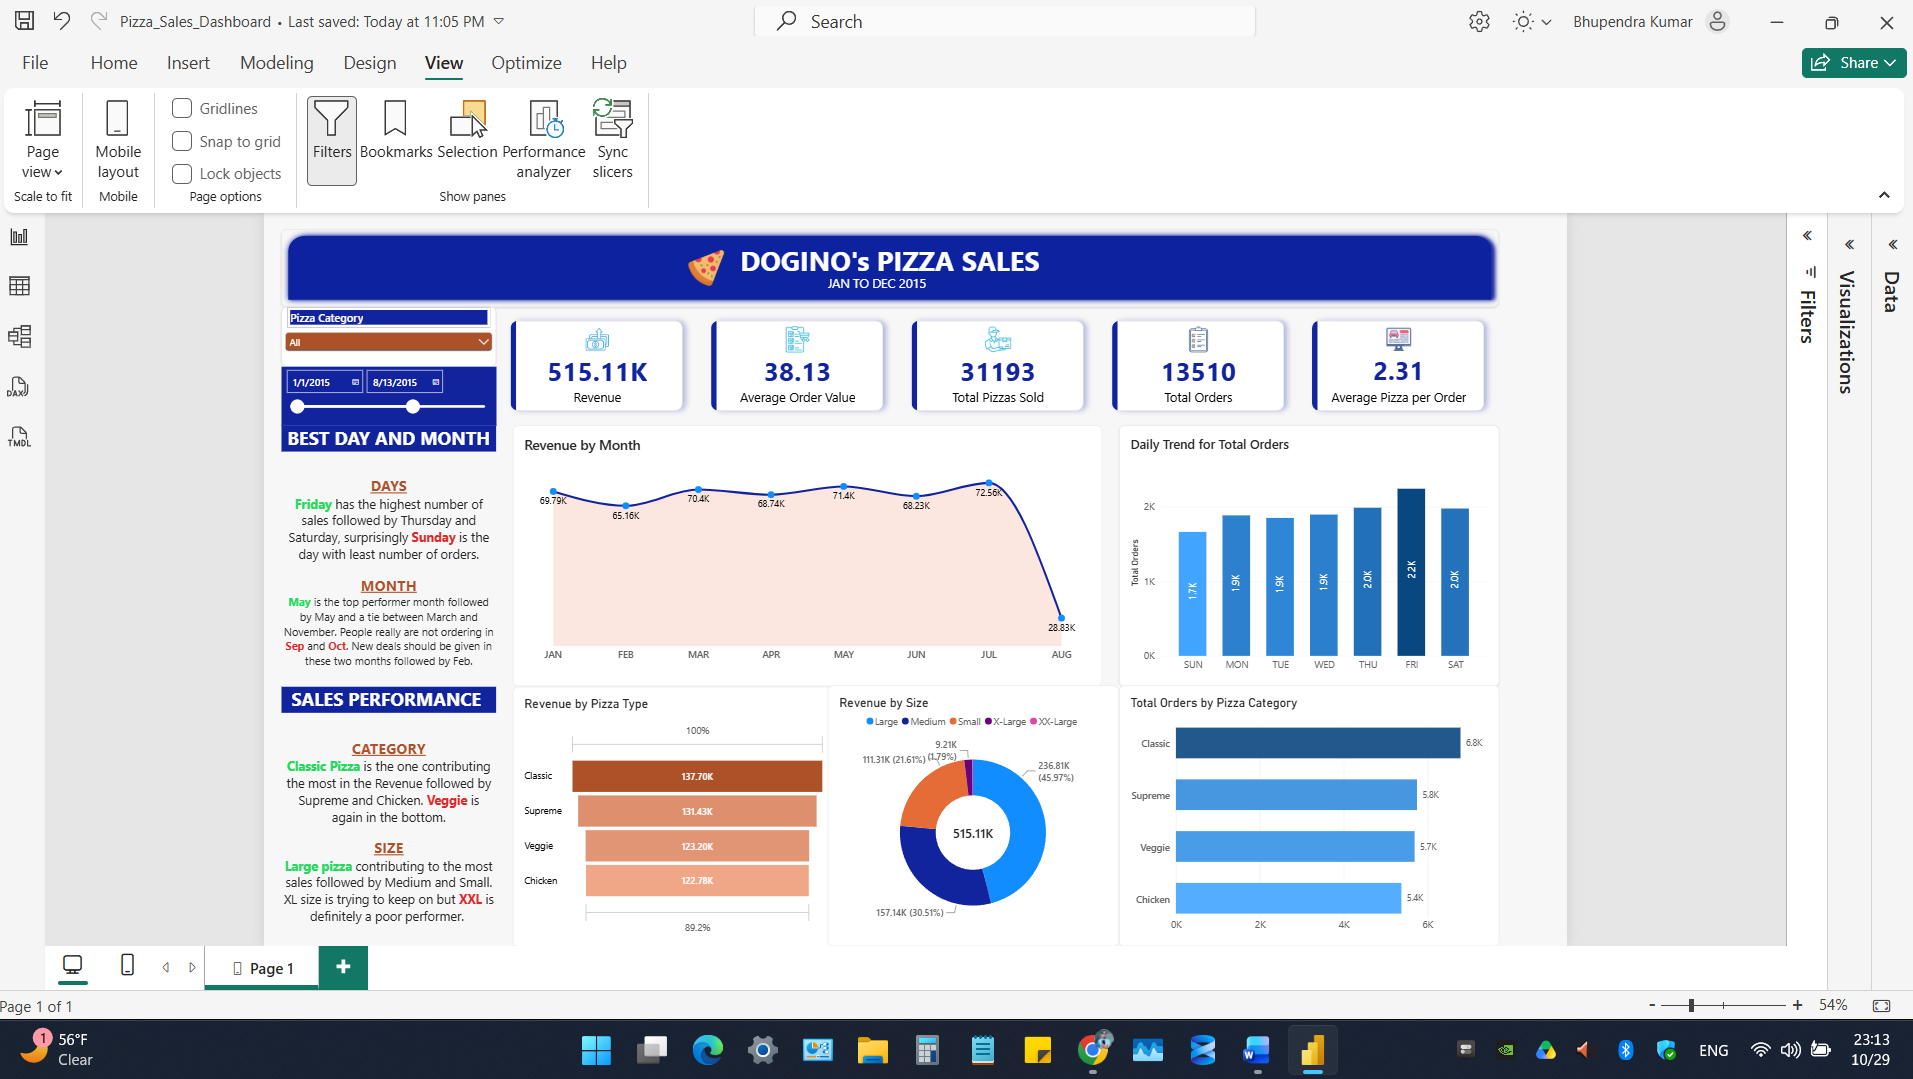

What the dashboard file says about the page in this screenshot:
{"tool":"powerbi","page":{"name":"Page 1","canvas":[1920,1080],"ordinal":0},"visuals":[{"type":"shape","box":[26.8,24.7,1790.7,113.2],"z":0},{"type":"cardVisual","fields":{"Data":["pizza_sales.Revenue","pizza_sales.Average Order Value","pizza_sales.Total Pizzas Sold","pizza_sales.Total_orders","pizza_sales.Average Pizza per Order"]},"box":[341.7,137.9,1475.8,175],"z":1000},{"type":"textbox","box":[830,90,154,38],"z":2000},{"type":"image","box":[491.9,53.5,319,55.6],"z":3000},{"type":"columnChart","title":"Daily Trend for Total Orders","fields":{"Category":["pizza_sales.Day"],"Y":["pizza_sales.Total Orders"]},"box":[1258,312,560,384],"z":4000},{"type":"stackedAreaChart","title":"Revenue by Month","fields":{"Category":["pizza_sales.Month Order"],"Y":["pizza_sales.Revenue"]},"box":[366,312,868,384],"z":5000},{"type":"funnel","title":"Revenue by Pizza Type","fields":{"Category":["pizza_sales.pizza_category"],"Y":["pizza_sales.Revenue"]},"box":[366,698,478,382],"z":6000},{"type":"donutChart","title":"Revenue by Size","fields":{"Category":["pizza_sales.pizza_size"],"Y":["pizza_sales.Revenue"]},"box":[830,696,428,384],"z":7000},{"type":"barChart","title":"Total Orders by Pizza Category","fields":{"Category":["pizza_sales.pizza_category"],"Y":["pizza_sales.Total Orders"]},"box":[1258,696,560,384],"z":8000},{"type":"textbox","box":[26,698,316,38],"z":9000},{"type":"textbox","box":[26,312,316,38],"z":10000},{"type":"textbox","box":[26,736,316,344],"z":11000},{"type":"textbox","box":[26,350,316,346],"z":12000},{"type":"slicer","fields":{"Values":["pizza_sales.pizza_category"]},"box":[26,138,316,88],"z":13000},{"type":"slicer","fields":{"Values":["pizza_sales.order_date"]},"box":[26,226,316,86],"z":14000}]}

Visuals, with their boxes on the page's 1920x1080 design canvas (x1, y1, x2, y2). These are canvas units, not pixel positions in the 1913x1079 screenshot, which may show the page scaled, cropped or inside an application window:
shape: (left=27, top=25, right=1818, bottom=138)
cardVisual - pizza_sales.Revenue x pizza_sales.Average Order Value: (left=342, top=138, right=1818, bottom=313)
textbox: (left=830, top=90, right=984, bottom=128)
image: (left=492, top=54, right=811, bottom=109)
"Daily Trend for Total Orders" columnChart: (left=1258, top=312, right=1818, bottom=696)
"Revenue by Month" stackedAreaChart: (left=366, top=312, right=1234, bottom=696)
"Revenue by Pizza Type" funnel: (left=366, top=698, right=844, bottom=1080)
"Revenue by Size" donutChart: (left=830, top=696, right=1258, bottom=1080)
"Total Orders by Pizza Category" barChart: (left=1258, top=696, right=1818, bottom=1080)
textbox: (left=26, top=698, right=342, bottom=736)
textbox: (left=26, top=312, right=342, bottom=350)
textbox: (left=26, top=736, right=342, bottom=1080)
textbox: (left=26, top=350, right=342, bottom=696)
slicer - pizza_sales.pizza_category: (left=26, top=138, right=342, bottom=226)
slicer - pizza_sales.order_date: (left=26, top=226, right=342, bottom=312)
